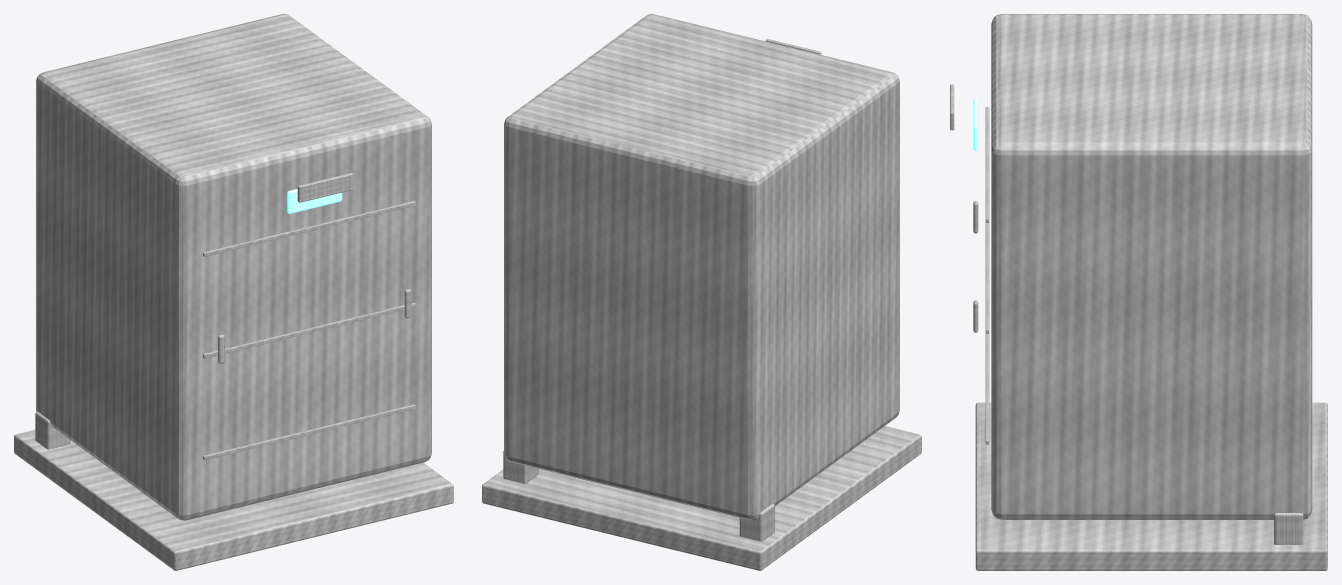
Rendered from storage_container_variant_c.glb.
The picture shows the model from 3 angles, left to right: view 1: azimuth 30°, elevation 25°; view 2: azimuth 150°, elevation 25°; view 3: azimuth 270°, elevation 25°; orthographic projection. The views are drawn at different scales.
Visible parts, largest first — view 1: Storage cabinet.002, Foundation.002, Door seam.006, Door seam.008, Door seam.007, Asset ID plate.003, Service foot.004, Inventory display.002; view 2: Storage cabinet.002, Foundation.002, Service foot.004, Service foot.005; view 3: Storage cabinet.002, Foundation.002, Service foot.005, Door seam.008, Door seam.006, Door seam.007.
Part boxes in pixels (bbox=[...]): Storage cabinet.002: bbox=[36, 14, 431, 520]; Foundation.002: bbox=[14, 430, 453, 570]; Door seam.006: bbox=[203, 404, 415, 460]; Door seam.008: bbox=[203, 201, 415, 256]; Door seam.007: bbox=[203, 302, 415, 358]; Asset ID plate.003: bbox=[297, 173, 353, 202]; Service foot.004: bbox=[35, 411, 70, 449]; Inventory display.002: bbox=[287, 189, 342, 213]; Storage cabinet.002: bbox=[504, 14, 899, 520]; Foundation.002: bbox=[482, 426, 921, 570]; Service foot.004: bbox=[739, 503, 774, 541]; Service foot.005: bbox=[503, 451, 538, 483]; Storage cabinet.002: bbox=[991, 14, 1312, 519]; Foundation.002: bbox=[975, 402, 1327, 570]; Service foot.005: bbox=[1274, 513, 1303, 544]; Door seam.008: bbox=[985, 107, 989, 222]; Door seam.006: bbox=[985, 333, 989, 444]; Door seam.007: bbox=[985, 223, 989, 333].
Size of what is drawn, in the model's own units: 3.6 by 4.72 by 3.86.
5 materials, 5 textured.
